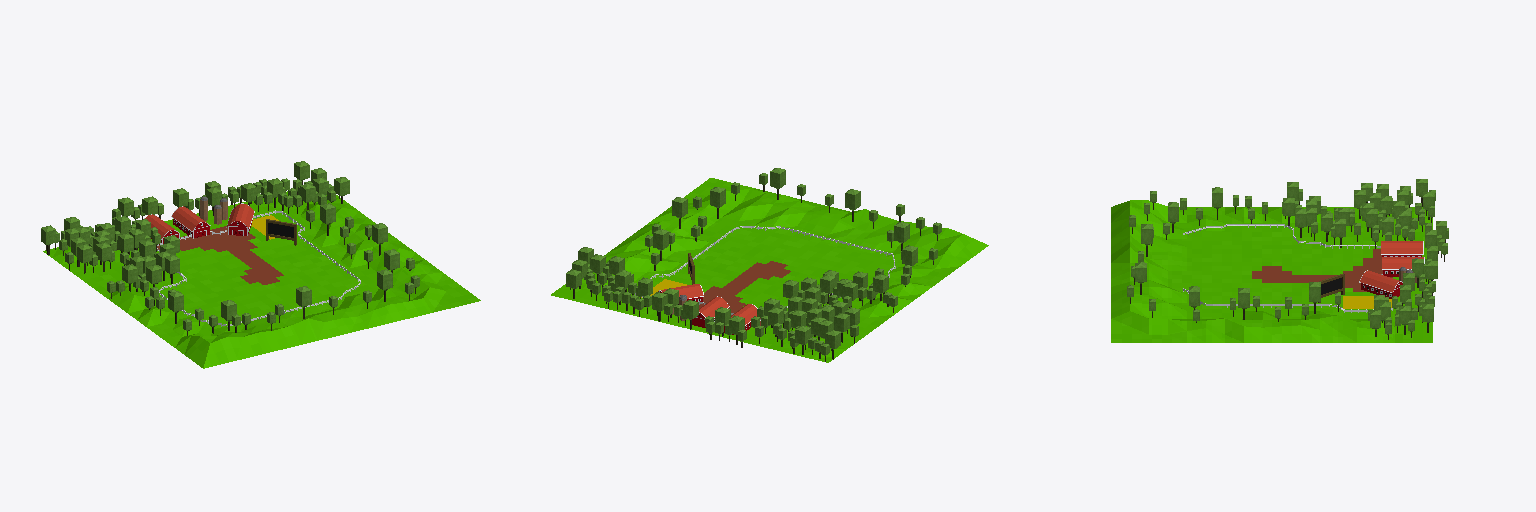
3 views of the same model, side by side, from view 1: azimuth 30°, elevation 25°; view 2: azimuth 150°, elevation 25°; view 3: azimuth 270°, elevation 25° (orthographic).
Parts seen in each view (by area): view 1: plane_selection, tree, plane, cuboid, fence; view 2: plane_selection, tree, plane, cuboid, fence; view 3: plane_selection, plane, tree, cuboid, fence.
Part boxes in pixels (x1,y1,x2,y2): plane_selection: (43, 191, 480, 368); tree: (41, 161, 419, 335); plane: (114, 201, 376, 328); cuboid: (144, 203, 296, 245); fence: (157, 210, 360, 326); plane_selection: (551, 178, 988, 362); tree: (566, 168, 941, 361); plane: (616, 221, 901, 350); cuboid: (658, 253, 757, 334); fence: (635, 226, 895, 320); plane_selection: (1111, 200, 1432, 342); plane: (1187, 231, 1430, 310); tree: (1127, 179, 1448, 339); cuboid: (1318, 241, 1424, 302); fence: (1183, 224, 1392, 312).
Bounding box in the file's own units: 130 × 19.93 × 134.
6 materials, 6 textured.